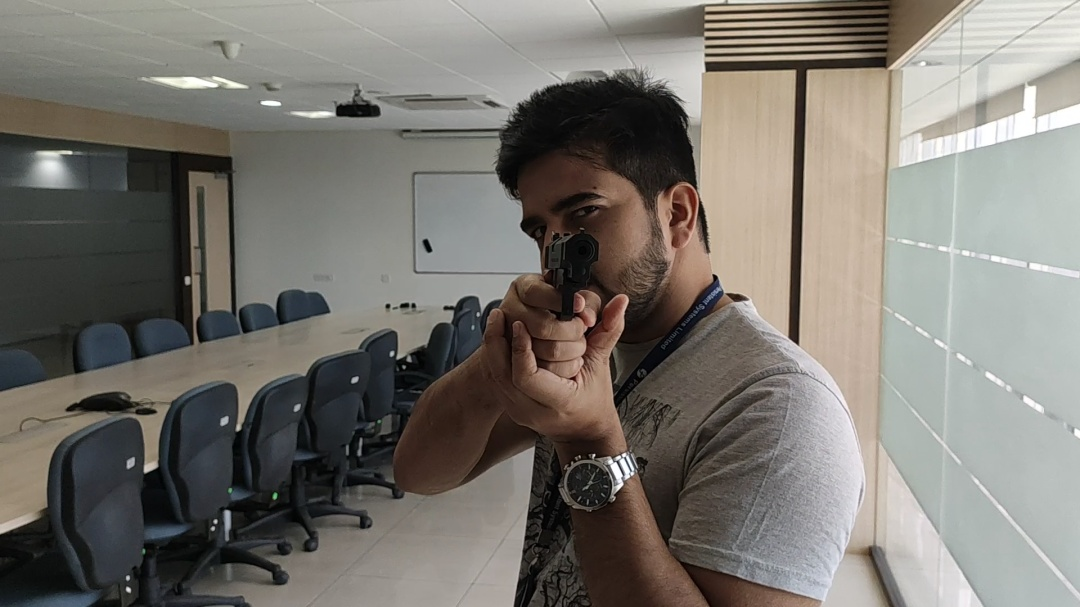gun: (544, 228, 599, 290)
